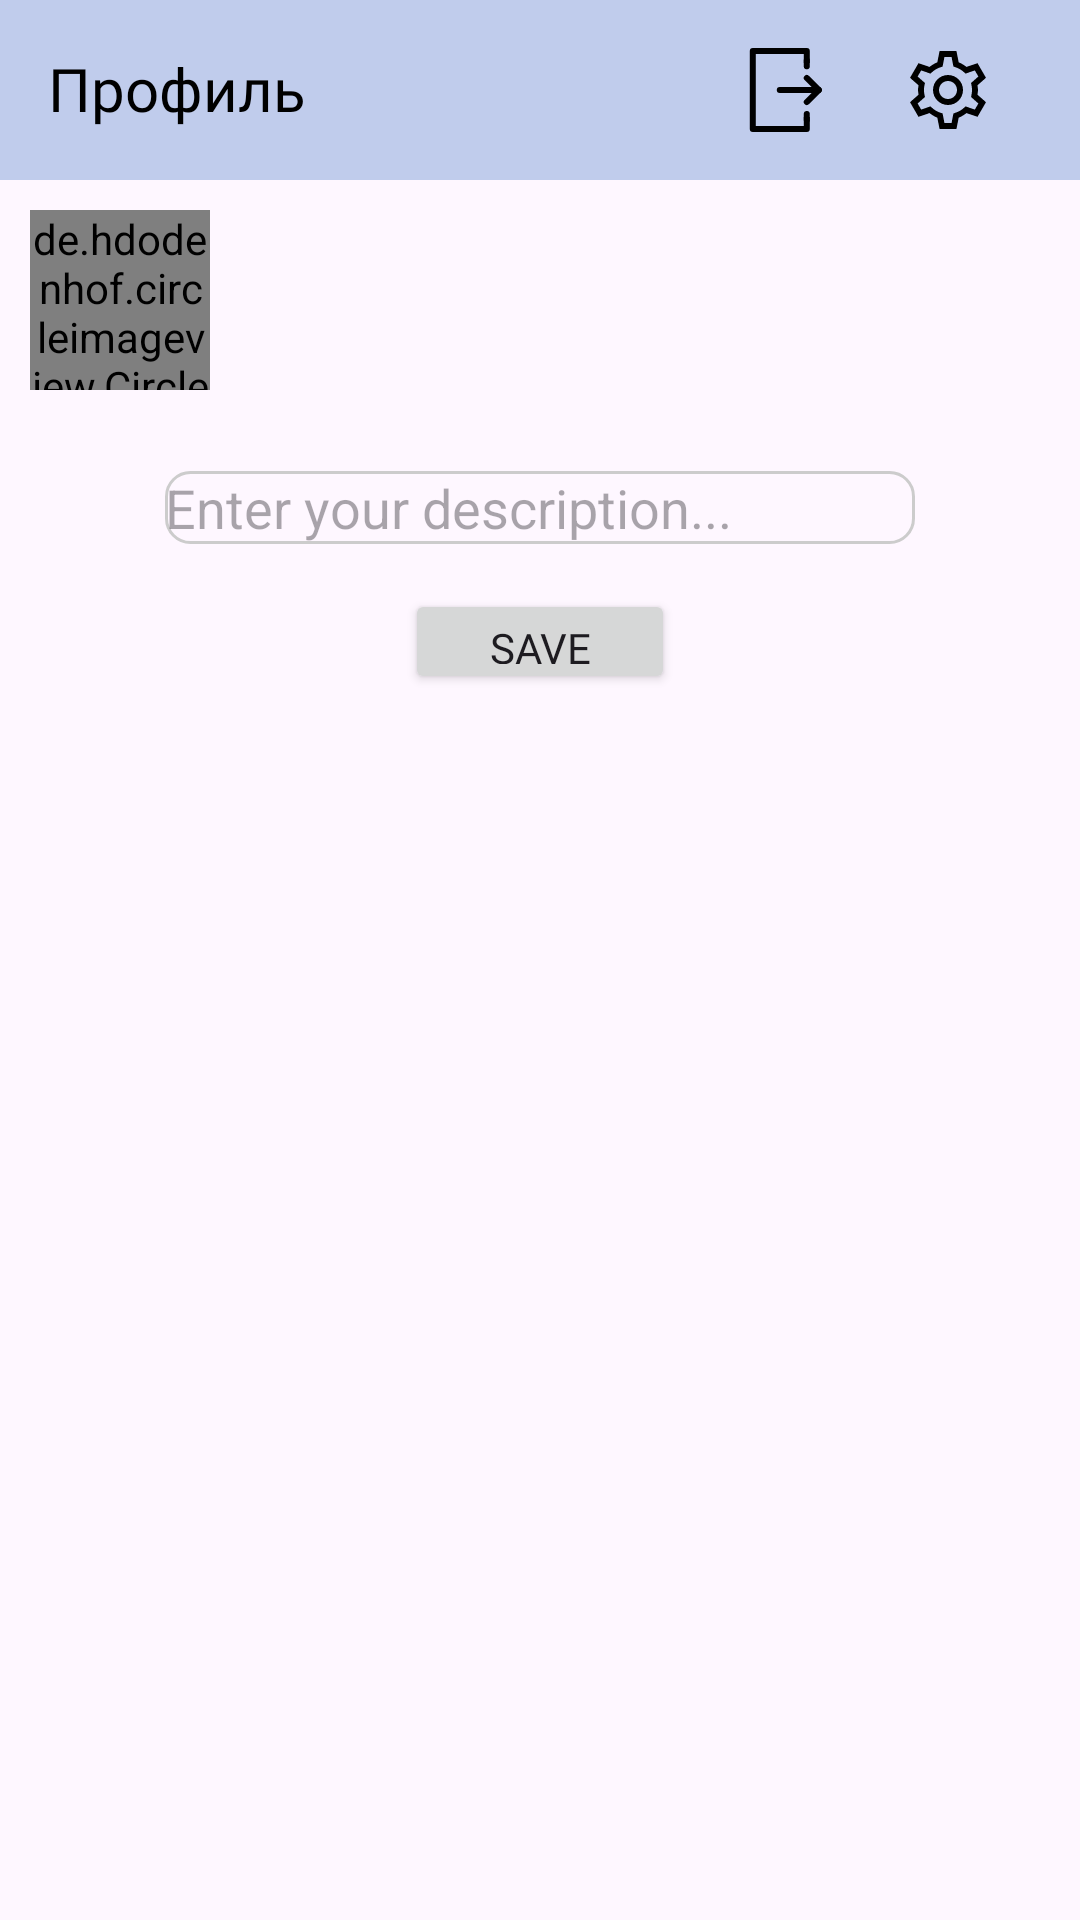

Icon bounding boxes for this 1080px×1920px phone screenshot, format (x1, y1, x2, y2):
settings: (910, 51, 986, 129)
